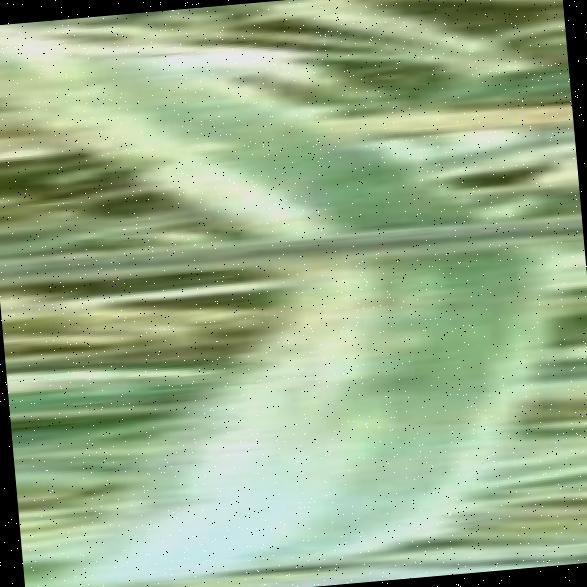Bacteria_Leaf_Blight: (157, 47, 552, 583)
